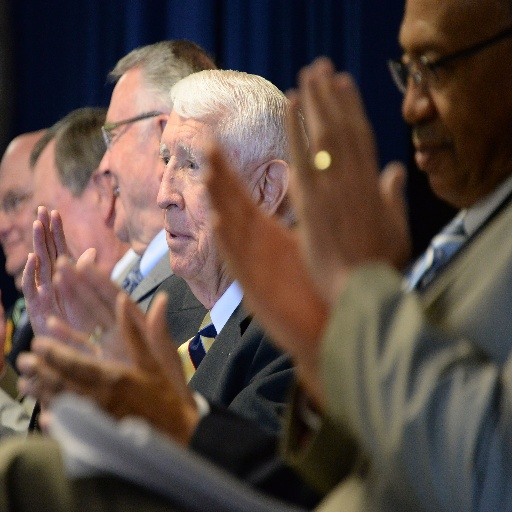hand: (202, 141, 332, 367), (285, 58, 404, 301), (28, 288, 202, 445), (12, 291, 161, 433), (49, 249, 143, 363), (20, 203, 75, 336), (0, 302, 8, 372)
